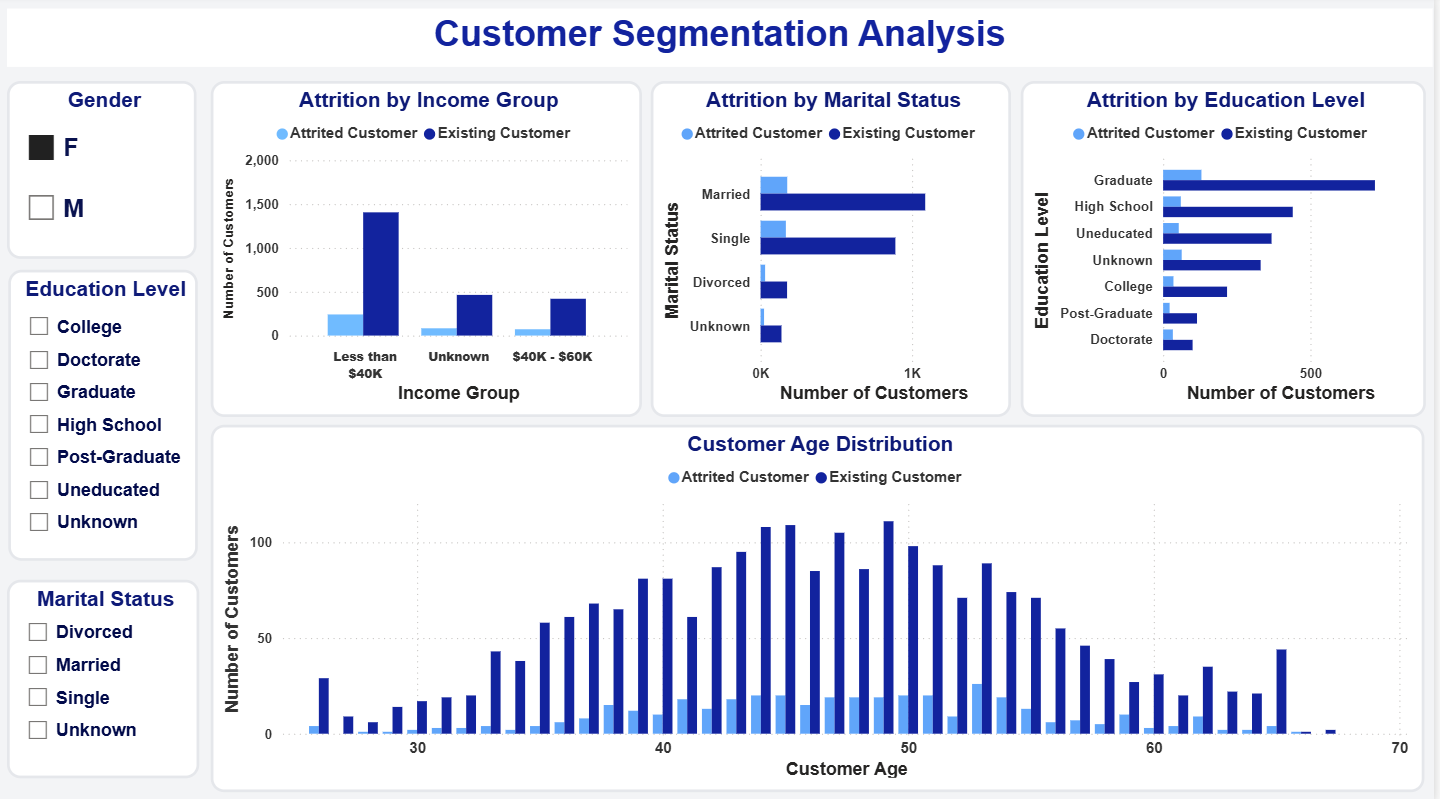

The page's visual inventory and layout, read from the dashboard file:
{"tool":"powerbi","page":{"name":"Customer Segmentation Analysis","canvas":[1280,720],"ordinal":1},"visuals":[{"type":"slicer","title":"Gender","fields":{"Values":["cleaned_credit_card_customers.Gender"]},"box":[9.3,75.6,168.6,158.1],"z":0},{"type":"slicer","title":"Education Level","fields":{"Values":["cleaned_credit_card_customers.Education_Level"]},"box":[10.5,244.2,168.6,259.3],"z":1000},{"type":"slicer","title":"Marital Status","fields":{"Values":["cleaned_credit_card_customers.Marital_Status"]},"box":[9.3,519.8,170.9,176.7],"z":2000},{"type":"clusteredColumnChart","title":"Customer Age Distribution","fields":{"Category":["cleaned_credit_card_customers.Customer_Age"],"Y":["CountNonNull(cleaned_credit_card_customers.CLIENTNUM)"],"Series":["cleaned_credit_card_customers.Attrition_Flag"]},"box":[190.4,381.8,1080.9,327.3],"z":3000},{"type":"clusteredBarChart","title":"Attrition by Education Level","fields":{"Category":["cleaned_credit_card_customers.Education_Level"],"Y":["CountNonNull(cleaned_credit_card_customers.CLIENTNUM)"],"Series":["cleaned_credit_card_customers.Attrition_Flag"]},"box":[911.6,75.6,360.5,298.8],"z":4000},{"type":"clusteredBarChart","title":"Attrition by Marital Status","fields":{"Category":["cleaned_credit_card_customers.Marital_Status"],"Y":["CountNonNull(cleaned_credit_card_customers.CLIENTNUM)"],"Series":["cleaned_credit_card_customers.Attrition_Flag"]},"box":[582.6,75.6,320.9,298.8],"z":5000},{"type":"clusteredColumnChart","title":"Attrition by Income Group","fields":{"Category":["cleaned_credit_card_customers.Income_Category"],"Y":["CountNonNull(cleaned_credit_card_customers.CLIENTNUM)"],"Series":["cleaned_credit_card_customers.Attrition_Flag"]},"box":[190.7,75.6,383.7,298.8],"z":6000},{"type":"textbox","box":[9.3,11.6,1269.8,52.3],"z":7000}]}

Visuals, with their boxes in screenshot pixels (x1, y1, x2, y2), scaled from the page's 1280x720 canvas onto the 1440x799 screenshot:
"Gender" slicer: select_region(10, 84, 200, 259)
"Education Level" slicer: select_region(12, 271, 201, 559)
"Marital Status" slicer: select_region(10, 577, 203, 773)
"Customer Age Distribution" clusteredColumnChart: select_region(214, 424, 1430, 787)
"Attrition by Education Level" clusteredBarChart: select_region(1026, 84, 1431, 415)
"Attrition by Marital Status" clusteredBarChart: select_region(655, 84, 1016, 415)
"Attrition by Income Group" clusteredColumnChart: select_region(215, 84, 646, 415)
textbox: select_region(10, 13, 1439, 71)
